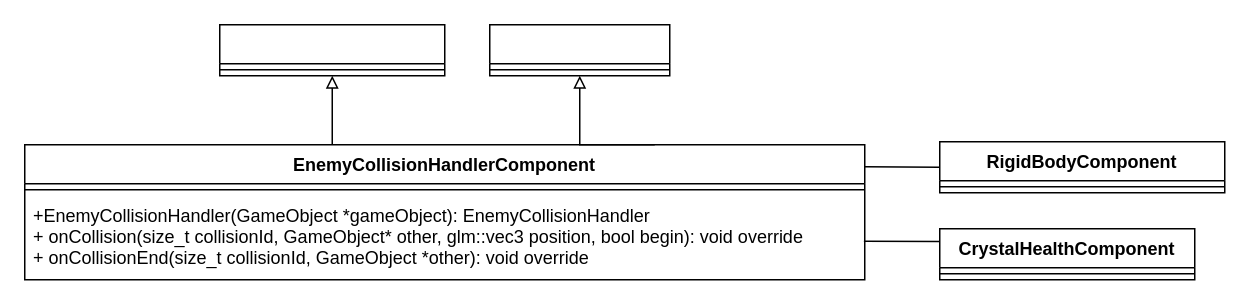
The diagram is 1250 pixels wide and 305 high, and some of its shapes have lost their labels. The shapes that lost their labels are listed below. From the top down, each one's box as (x1, y1, x2, y2) in pixels, then its label:
(218, 23, 445, 76): Component
(488, 23, 670, 76): CollisionHandler
